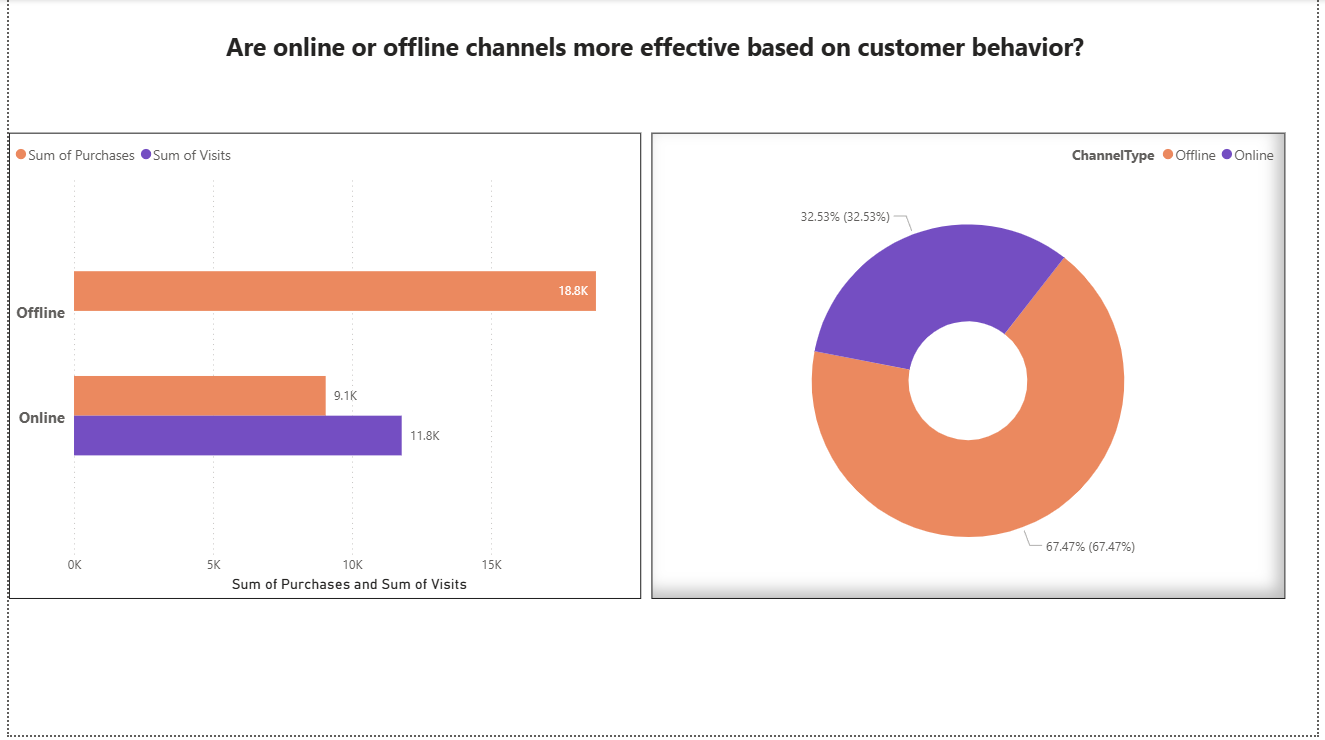

The dashboard page shown, as its layout file describes it:
{"tool":"powerbi","page":{"name":"Page 4","canvas":[1280,720],"ordinal":3},"visuals":[{"type":"textbox","box":[9.8,25.7,1237.5,57.5],"z":0},{"type":"clusteredBarChart","fields":{"Category":["OnlineVsOffline.ChannelType"],"Y":["Sum(OnlineVsOffline.Purchases)","Sum(OnlineVsOffline.Visits)"]},"box":[0,130.8,618.8,456.1],"z":1000},{"type":"donutChart","fields":{"Category":["OnlineVsOffline.ChannelType"],"Y":["Sum(OnlineVsOffline.Purchases)"]},"box":[628.5,130.8,620,456.1],"z":2000}]}

Visuals, with their boxes in screenshot pixels (x1, y1, x2, y2), scaled from the page's 1280x720 canvas onto the 1325x740 screenshot:
textbox: (left=10, top=26, right=1291, bottom=86)
clusteredBarChart - OnlineVsOffline.ChannelType x Sum(OnlineVsOffline.Purchases): (left=0, top=134, right=641, bottom=603)
donutChart - OnlineVsOffline.ChannelType x Sum(OnlineVsOffline.Purchases): (left=651, top=134, right=1292, bottom=603)
